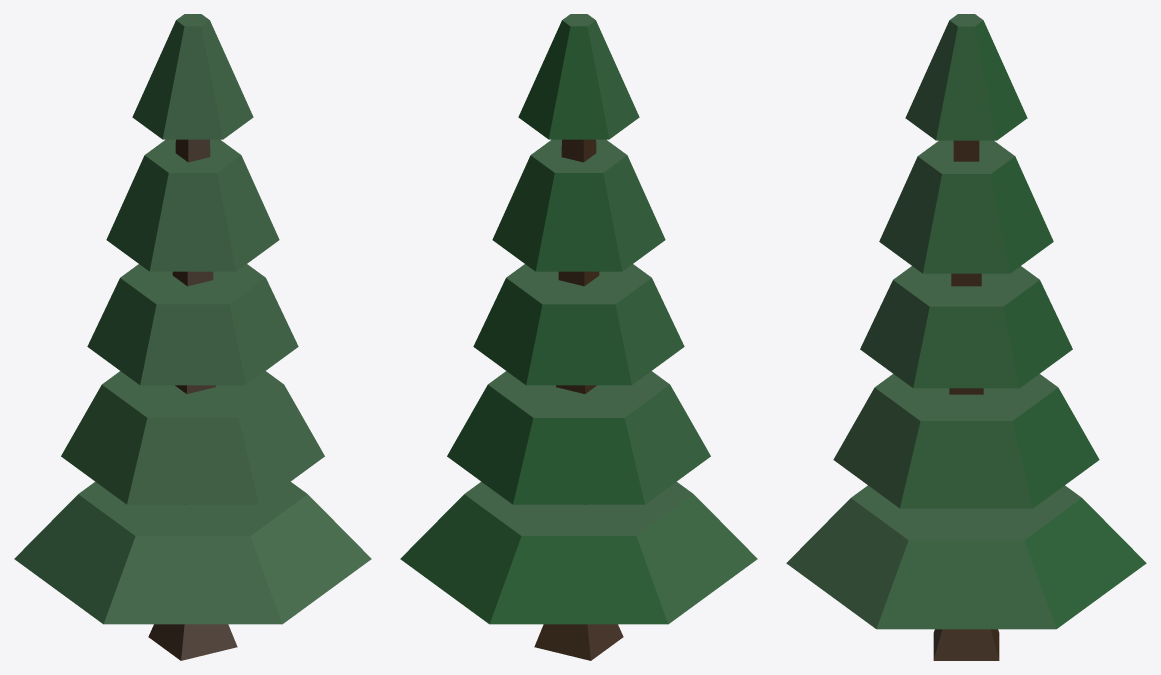
Rendered from conifer_round.glb.
3 renders of one model, left to right at view 1: azimuth 30°, elevation 25°; view 2: azimuth 150°, elevation 25°; view 3: azimuth 270°, elevation 25°, orthographic.
Parts seen in each view (by area): view 1: conifer_round; view 2: conifer_round; view 3: conifer_round.
Part boxes in pixels (x1,y1,x2,y2): conifer_round: [14, 14, 371, 660]; conifer_round: [400, 14, 757, 660]; conifer_round: [786, 14, 1146, 660].
Bounding box in the file's own units: 2.71 × 6 × 3.13.
